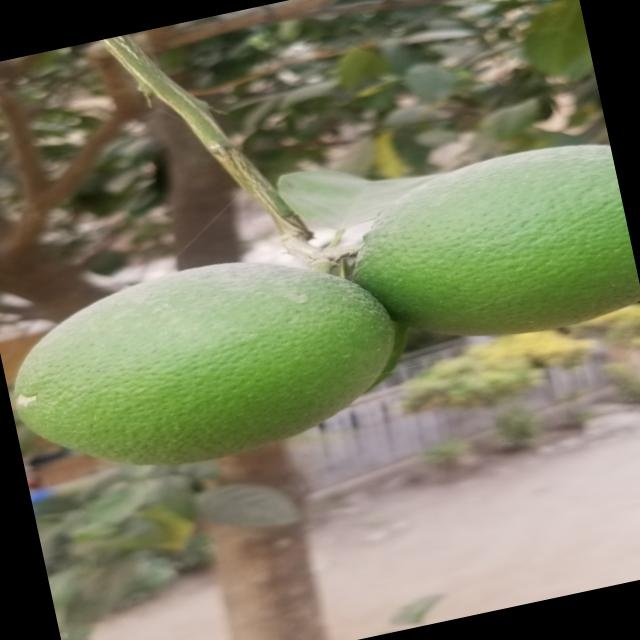agrume: (10, 231, 411, 494), (339, 136, 638, 364)
